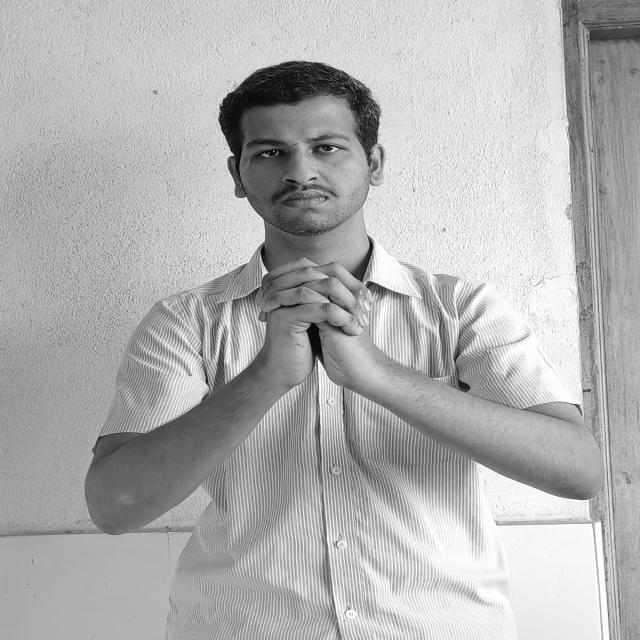Sorry: (254, 258, 381, 367)
